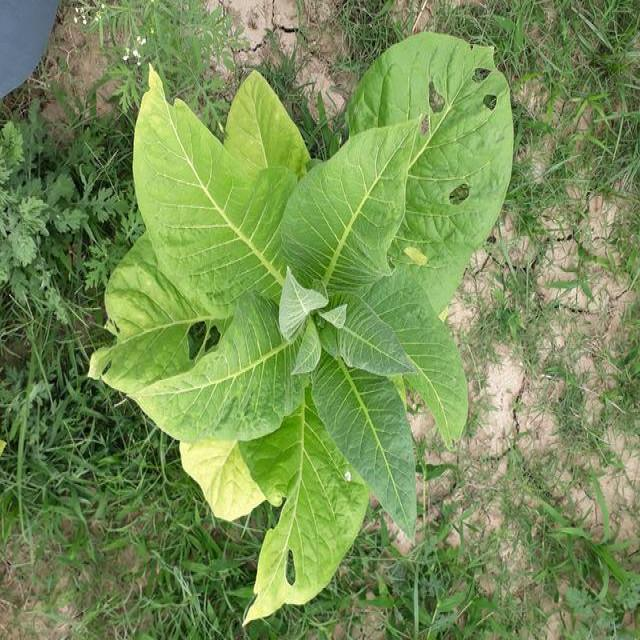crop: (81, 39, 526, 596)
